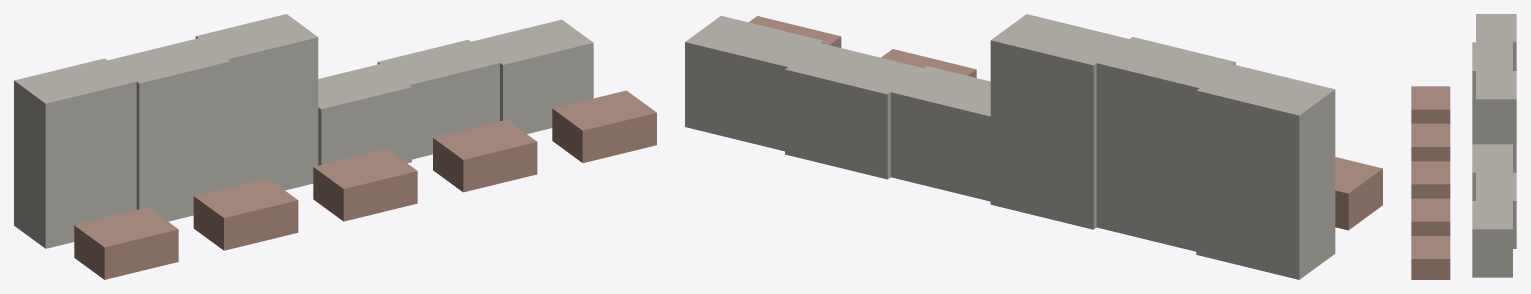
File: Dustline_BrokenWall_YUp.glb
3 views of the same model, side by side, from view 1: azimuth 30°, elevation 25°; view 2: azimuth 150°, elevation 25°; view 3: azimuth 270°, elevation 25° (orthographic). The views are drawn at different scales.
Parts seen in each view (by area): view 1: wall_crumble_0, wall_crumble_1, wall_crumble_2, wall_crumble_5, wall_crumble_4, wall_crumble_3, loose_brick_1, loose_brick_0, loose_brick_3, loose_brick_2, loose_brick_4; view 2: wall_crumble_0, wall_crumble_2, wall_crumble_1, wall_crumble_4, wall_crumble_5, wall_crumble_3, loose_brick_0, loose_brick_3, loose_brick_4; view 3: wall_crumble_5, wall_crumble_2, loose_brick_4, loose_brick_1, loose_brick_0, loose_brick_2, loose_brick_3, wall_crumble_1, wall_crumble_4, wall_crumble_0, wall_crumble_3.
Part boxes in pixels (x1,y1,x2,y2): wall_crumble_0: (14,58,136,248); wall_crumble_1: (108,38,230,221); wall_crumble_2: (195,14,318,190); wall_crumble_5: (471,19,593,133); wall_crumble_4: (377,39,499,159); wall_crumble_3: (318,64,411,165); loose_brick_1: (193,178,298,250); loose_brick_0: (74,207,178,279); loose_brick_3: (433,119,537,192); loose_brick_2: (313,149,417,221); loose_brick_4: (552,90,656,162); wall_crumble_0: (1196,64,1335,279); wall_crumble_2: (990,14,1128,229); wall_crumble_1: (1096,37,1235,251); wall_crumble_4: (785,43,923,179); wall_crumble_5: (685,16,823,151); wall_crumble_3: (891,66,990,201); loose_brick_0: (1335,157,1382,230); loose_brick_3: (881,49,976,77); loose_brick_4: (748,16,841,47); wall_crumble_5: (1472,201,1512,277); wall_crumble_2: (1476,71,1516,172); loose_brick_4: (1411,236,1450,279); loose_brick_1: (1411,123,1450,161); loose_brick_0: (1411,86,1450,123); loose_brick_2: (1411,161,1450,198); loose_brick_3: (1411,198,1450,235); wall_crumble_1: (1472,42,1512,144); wall_crumble_4: (1476,172,1516,248); wall_crumble_0: (1476,14,1516,70); wall_crumble_3: (1472,144,1512,200).
Bounding box in the file's own units: 2.35 × 0.58 × 0.595.
